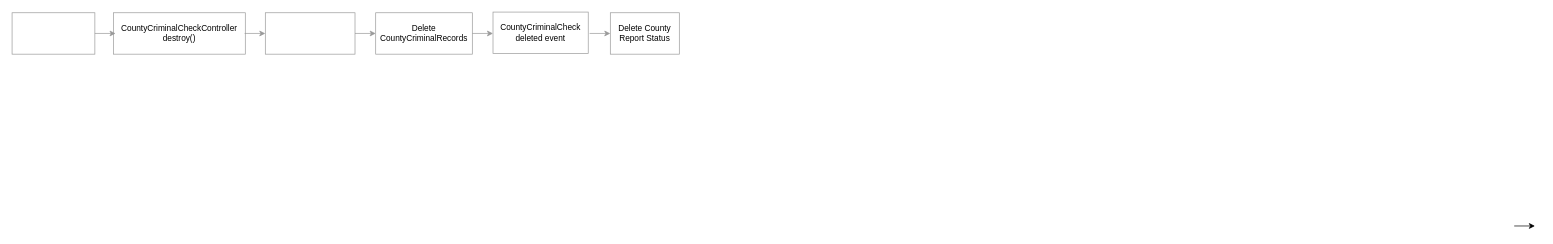
The diagram is 1553 pixels wide and 244 high, and some of its shapes have lost their labels. The centre of each missing label's shape, as x and y in pixels:
"Admin removes county (CountyCheck.vue)" belongs at [53,33].
"CountyCriminalCheck deleting event" belongs at [310,33].
